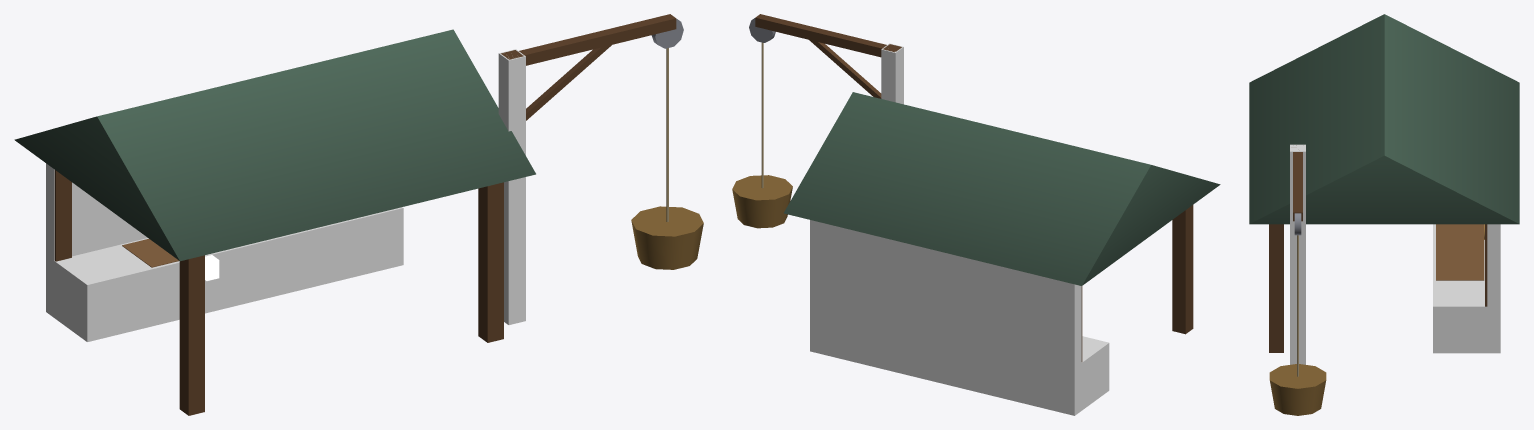
The model's file is taller_copa.glb.
3 renders of one model, left to right at view 1: azimuth 30°, elevation 25°; view 2: azimuth 150°, elevation 25°; view 3: azimuth 270°, elevation 25°, orthographic. The views are drawn at different scales.
Visible parts, largest first — view 1: taller_copa_Malla, COL_0, COL_2, COL_1; view 2: taller_copa_Malla, COL_1, COL_0, COL_2; view 3: taller_copa_Malla, COL_0, COL_2, COL_1.
Part boxes in pixels (<box>): taller_copa_Malla: <box>14,14,703,415</box>; COL_0: <box>46,207,403,341</box>; COL_2: <box>498,49,525,324</box>; COL_1: <box>46,163,147,317</box>; taller_copa_Malla: <box>732,14,1220,361</box>; COL_1: <box>810,220,1081,415</box>; COL_0: <box>810,303,1109,415</box>; COL_2: <box>881,43,903,104</box>; taller_copa_Malla: <box>1249,14,1519,415</box>; COL_0: <box>1433,224,1500,353</box>; COL_2: <box>1290,144,1305,364</box>; COL_1: <box>1487,224,1500,353</box>.
Bounding box in the file's own units: 9.55 × 4.4 × 5.
